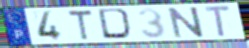3: (137, 6, 166, 40)
4: (36, 9, 64, 43)
D: (96, 7, 136, 41)
N: (166, 6, 206, 39)
T: (203, 4, 233, 39), (66, 9, 95, 42)
